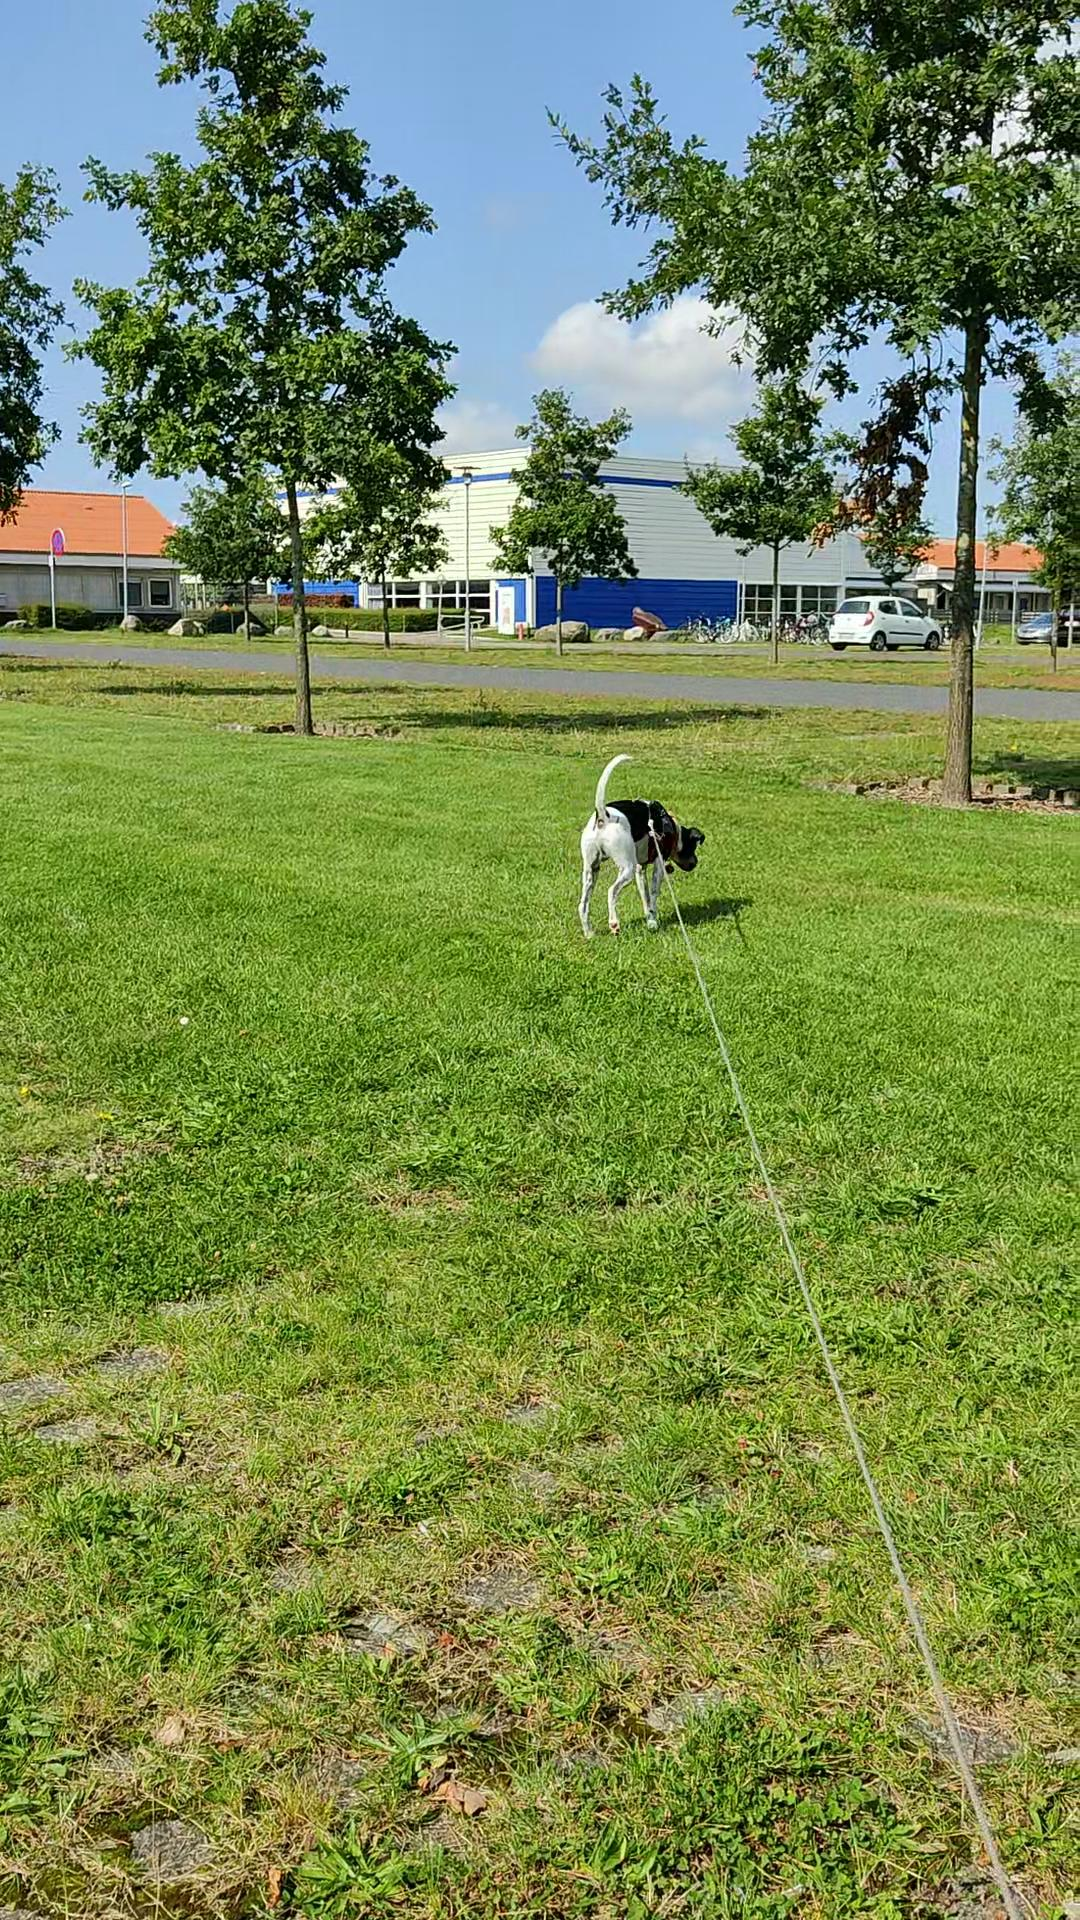Dog: (574, 749, 705, 945)
